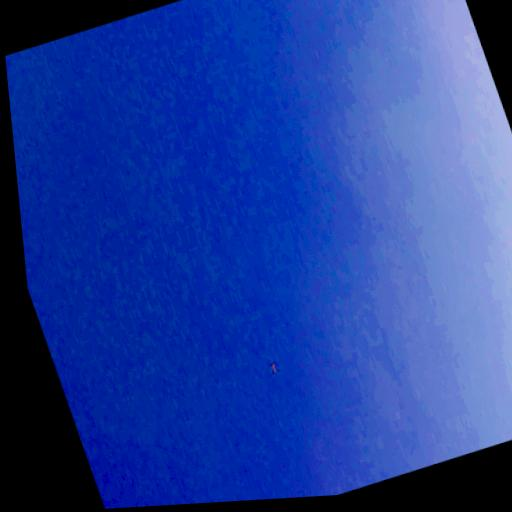drones: (265, 358, 282, 379)
